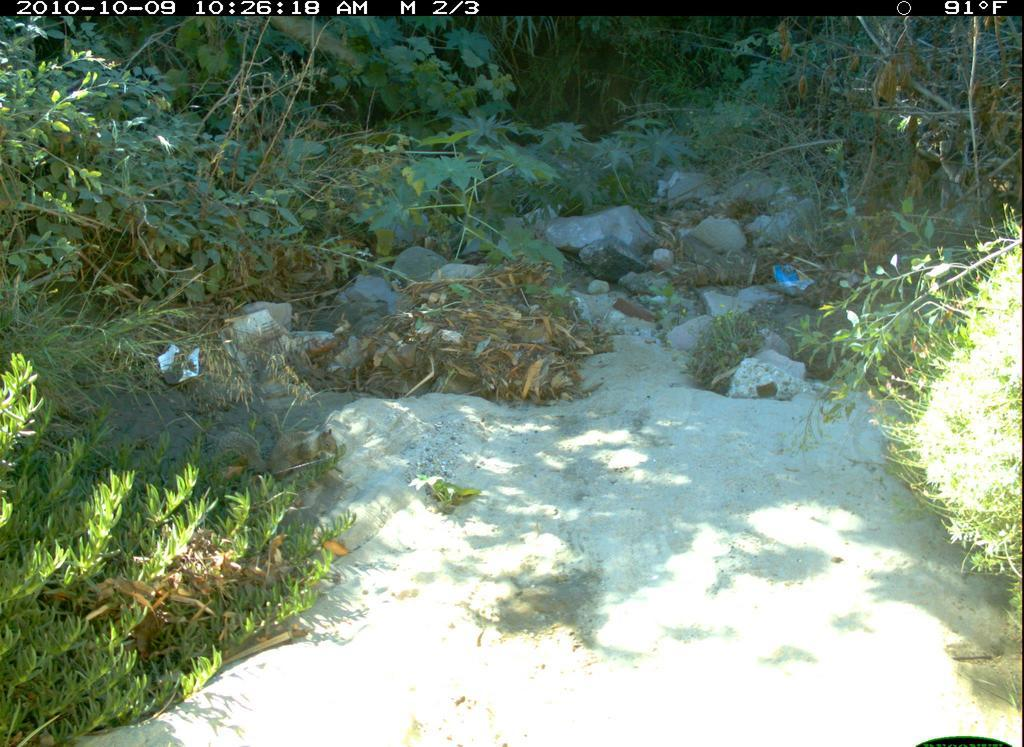squirrel: (216, 422, 348, 500)
